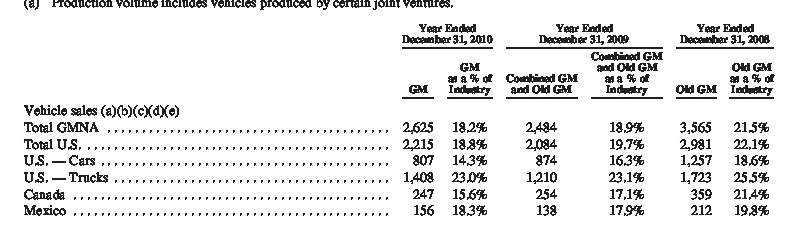table: (0, 0, 795, 236)
